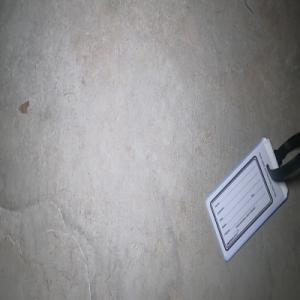LuggageTag: (203, 130, 300, 263)
